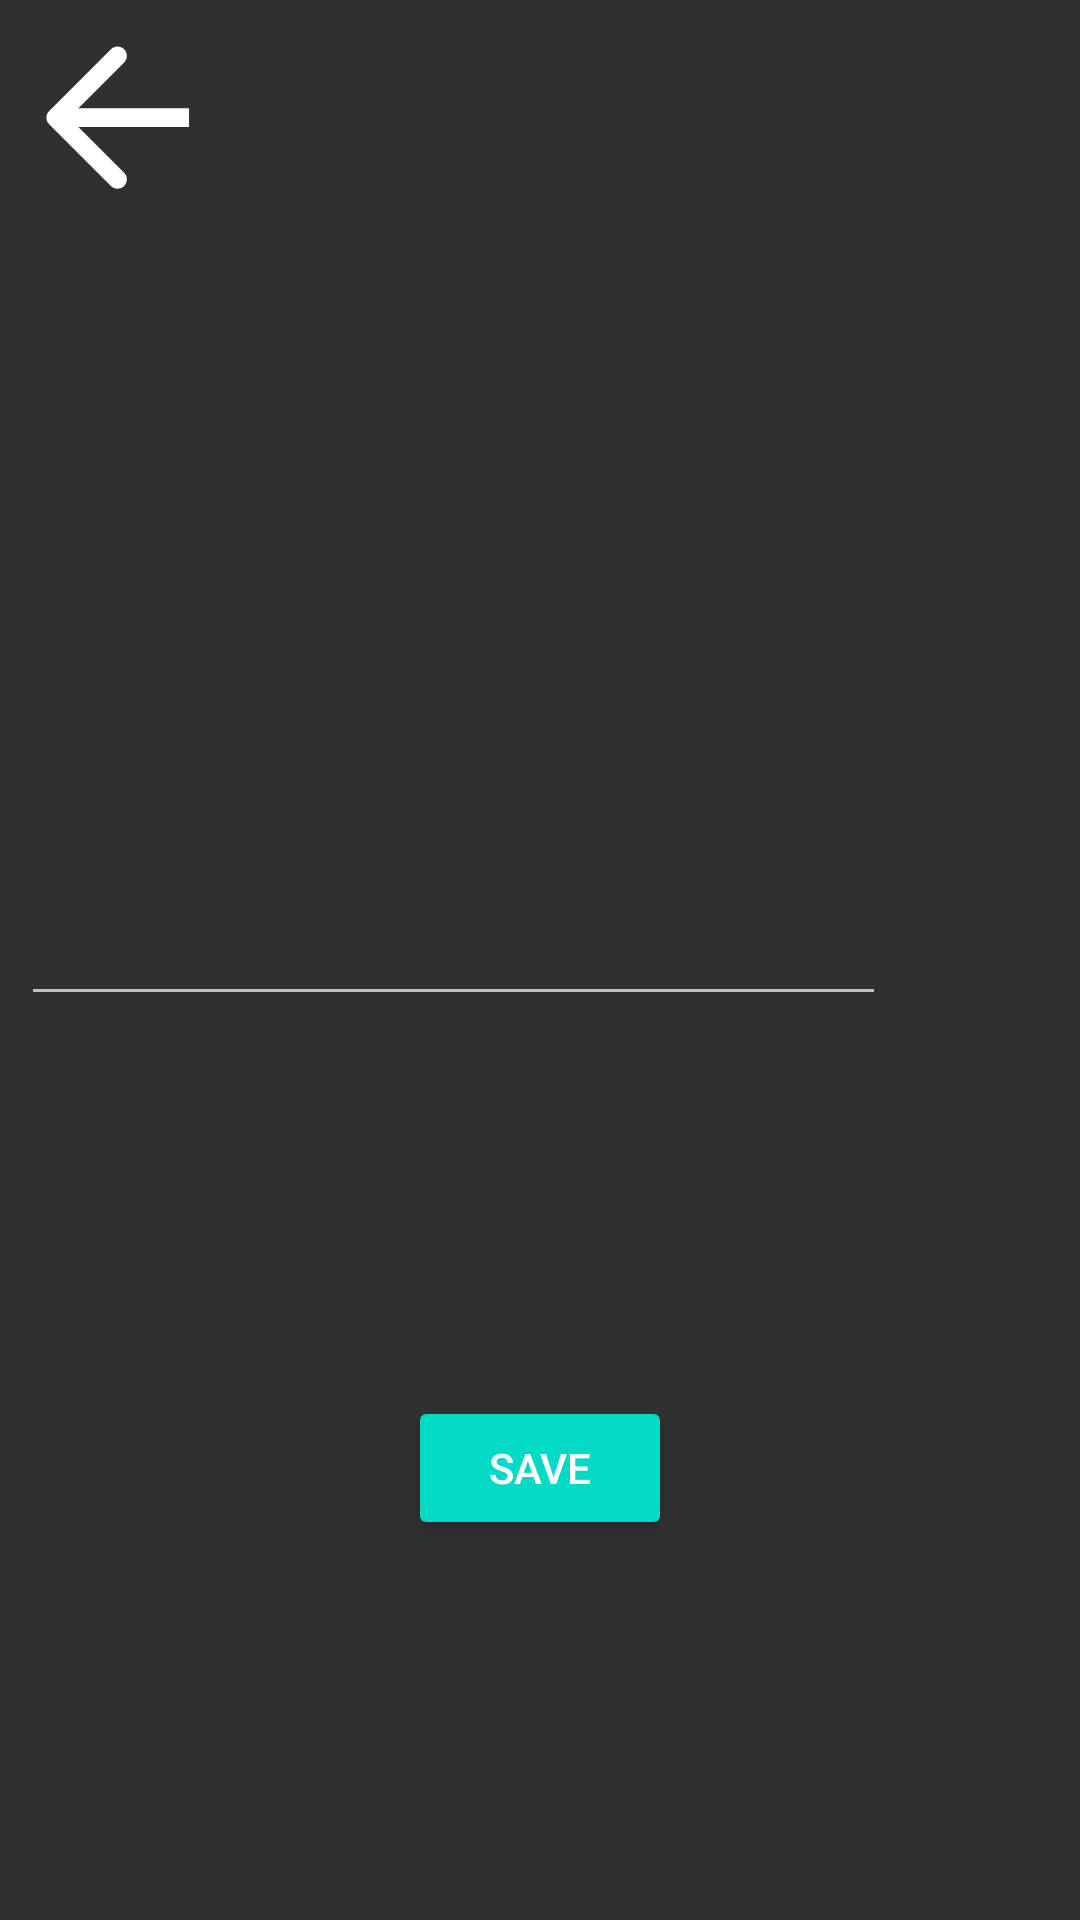

Icons on this 1080×1920 Android screen, each with the point to tap as point (x, y):
arrow: point (117, 117)
